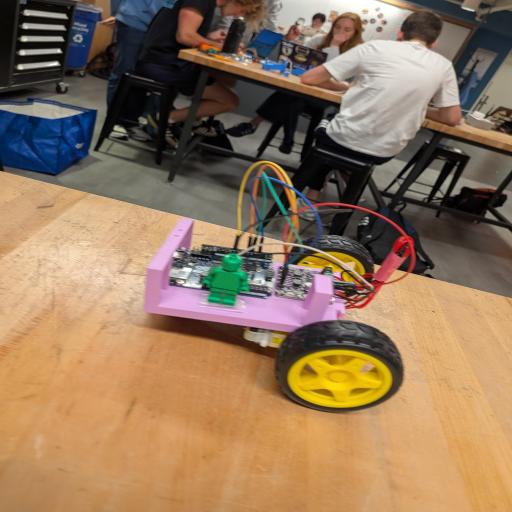Minifig: (203, 254, 249, 306)
